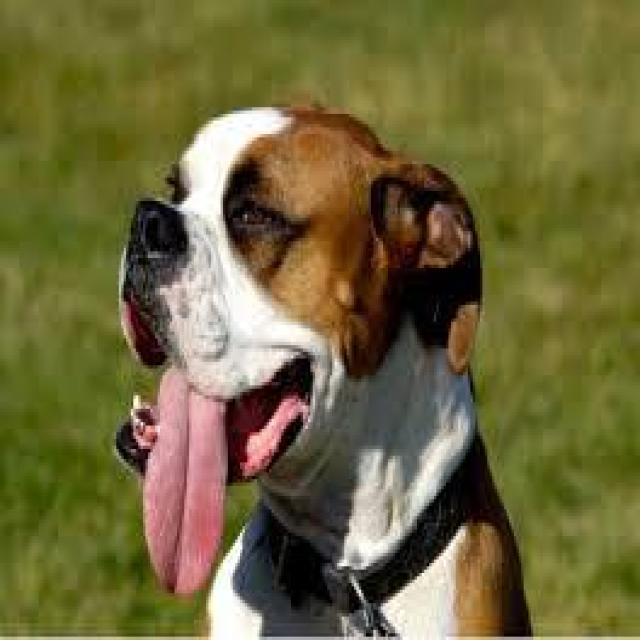Dog: (108, 86, 491, 619)
